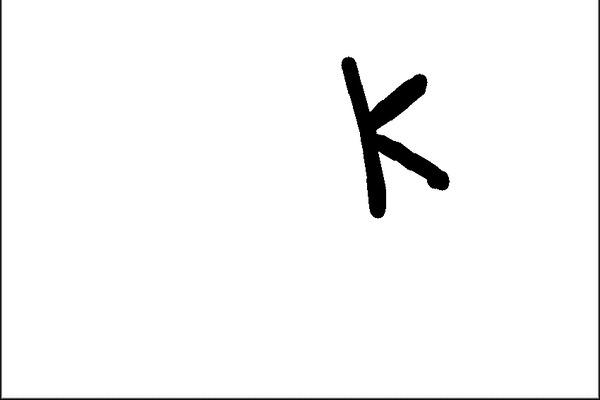K: (331, 49, 459, 225)
